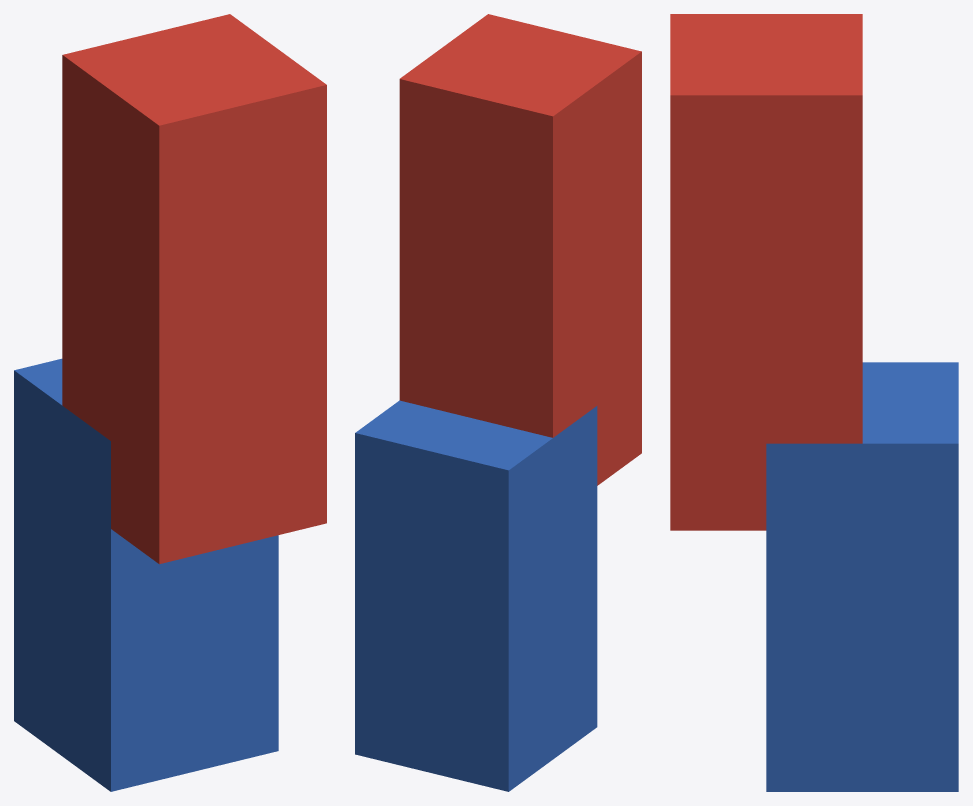
The model's file is parrot__tail.glb.
3 renders of one model, left to right at view 1: azimuth 30°, elevation 25°; view 2: azimuth 150°, elevation 25°; view 3: azimuth 270°, elevation 25°, orthographic. The views are drawn at different scales.
Parts seen in each view (by area): view 1: parrot__tail; view 2: parrot__tail; view 3: parrot__tail.
Part boxes in pixels (<box>): parrot__tail: <box>14,14,326,791</box>; parrot__tail: <box>355,14,641,791</box>; parrot__tail: <box>670,14,958,791</box>.
Bounding box in the file's own units: 0.2 × 0.8 × 0.3.
1 material, 1 textured.
